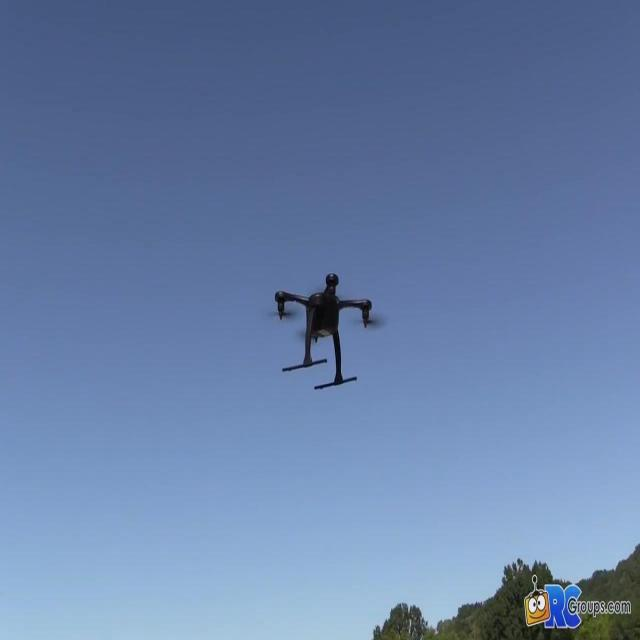UAV: (266, 273, 388, 389)
